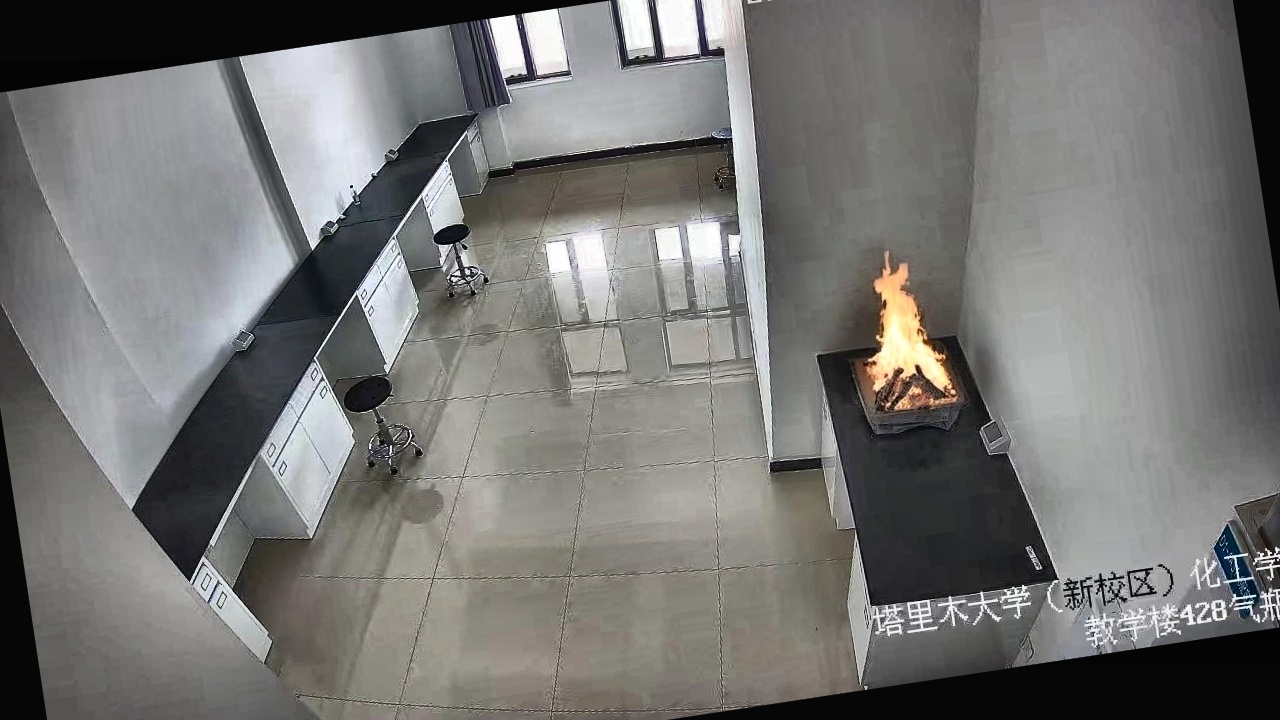fire: (824, 231, 1005, 444)
